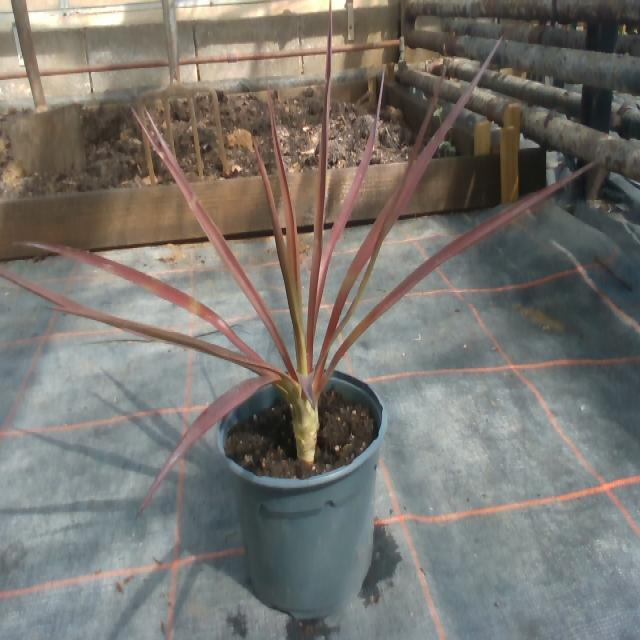Yucca-aloifolia: (315, 40, 501, 375), (323, 163, 594, 381), (137, 116, 297, 380), (0, 269, 291, 380), (26, 243, 261, 359), (140, 376, 271, 511), (316, 97, 380, 296), (254, 139, 299, 355), (306, 0, 331, 364), (338, 205, 404, 331), (269, 87, 300, 315), (408, 69, 445, 169)
